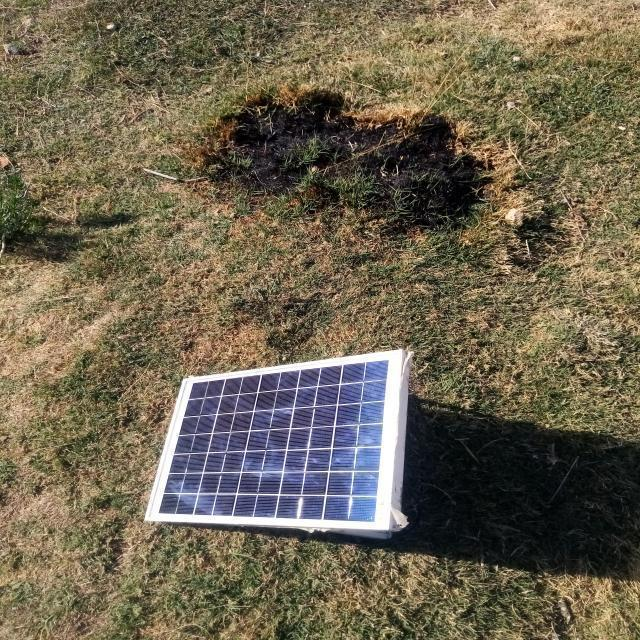Normal Solar Panel: (146, 351, 402, 531)
